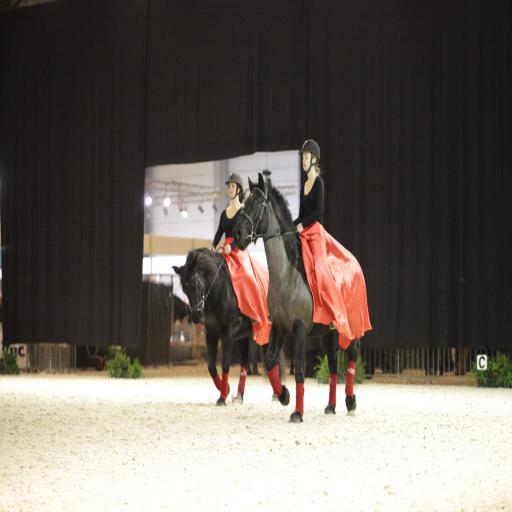Horse: (231, 169, 358, 426), (170, 246, 286, 408)
